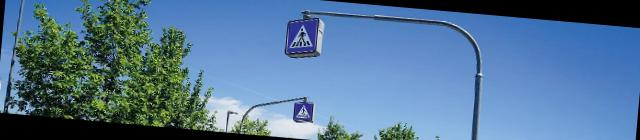crosswalk-sign: (285, 16, 326, 61), (294, 101, 316, 124)
